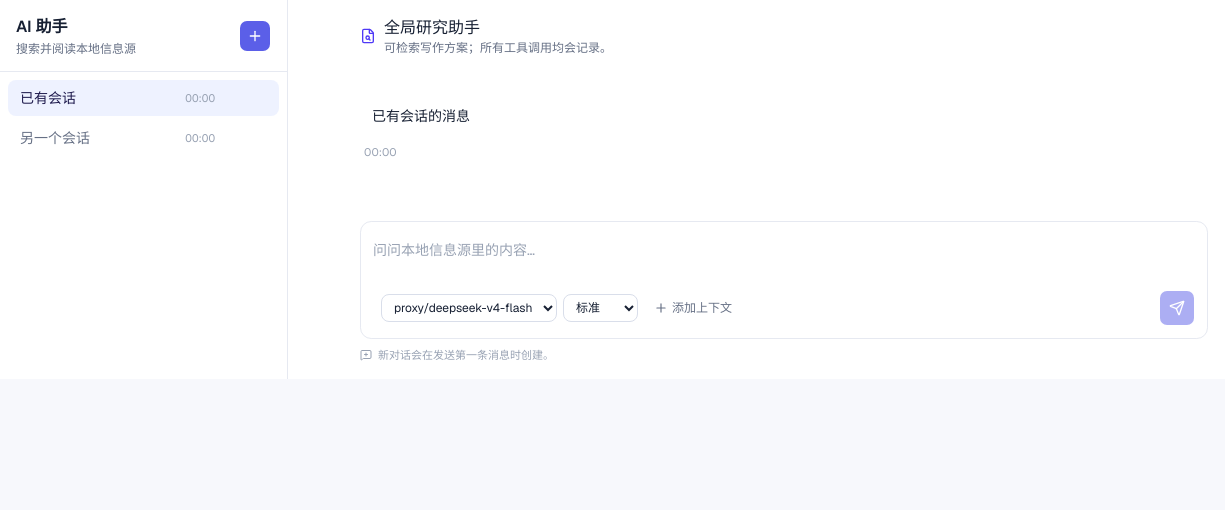
Test: ChatWorkspace › starts an empty local conversation without creating a database session
Expected: the button "已有会话 00:00" is shown, 8,80 -> 279,116
What coordinates should you click on to do the following:
click the button named "新建对话"
I would click on:
 (255, 36)
Its box is 239,20 -> 271,52.
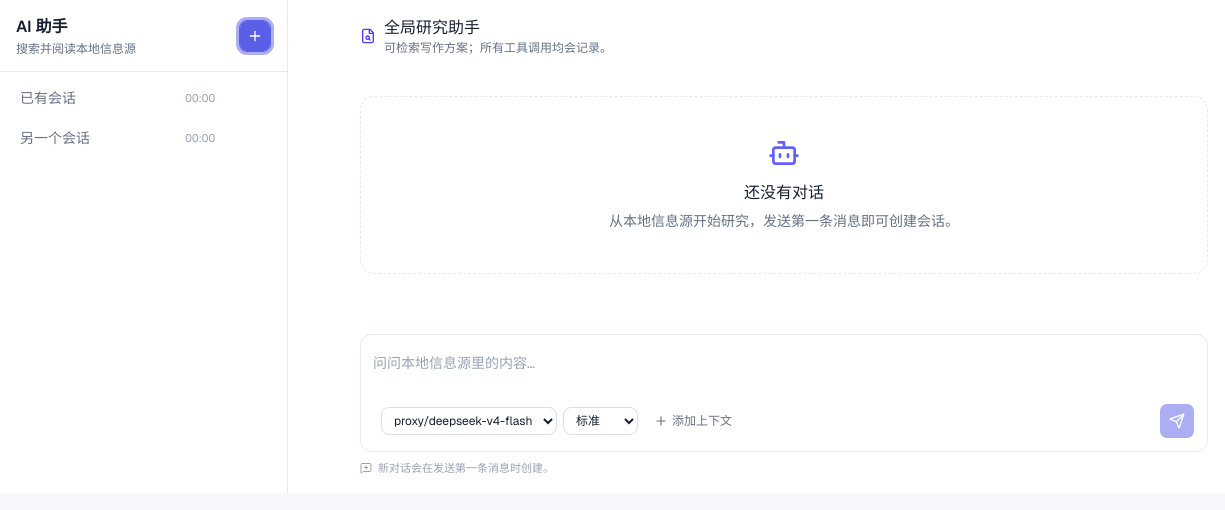
Expected: the heading "还没有对话" is shown, 744,182 -> 824,203
